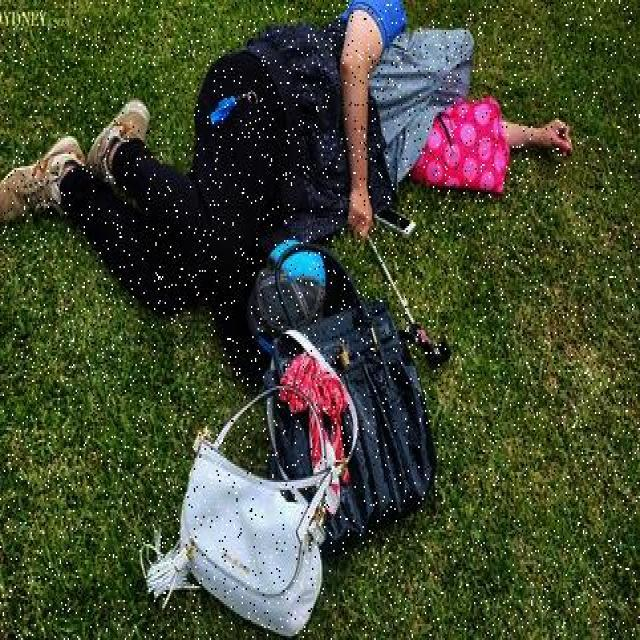fall: (31, 8, 523, 264)
